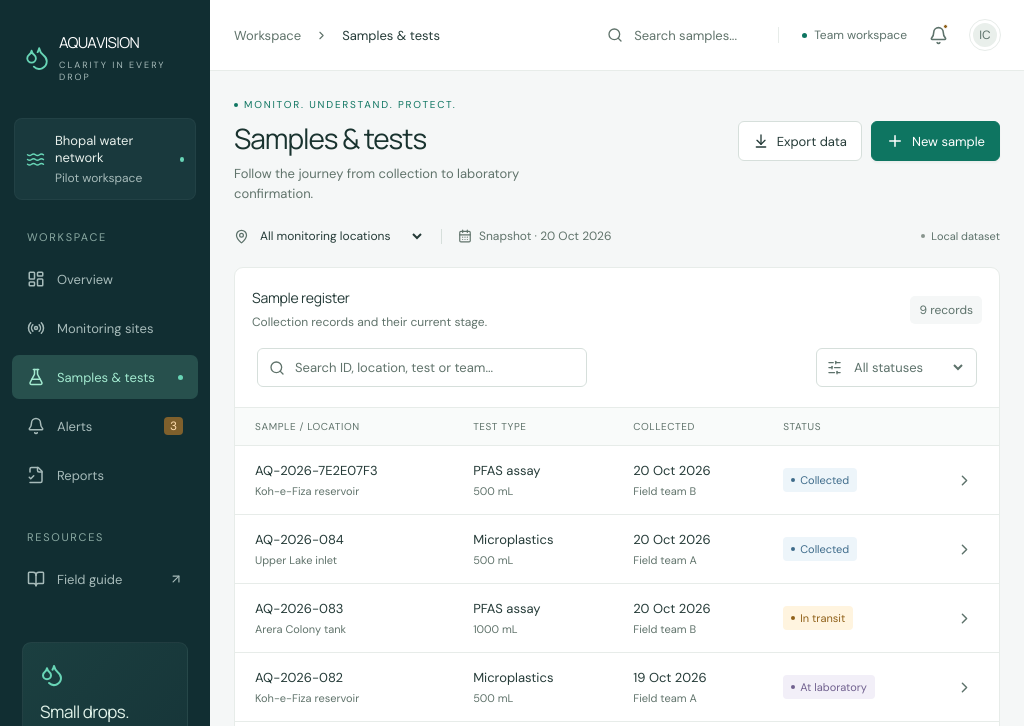
it: frontend workflows without a browser or service › searches samples and distinguishes the empty state
Type "084" into the field labelled "Search samples" at [697, 35], box [632, 26, 762, 44]
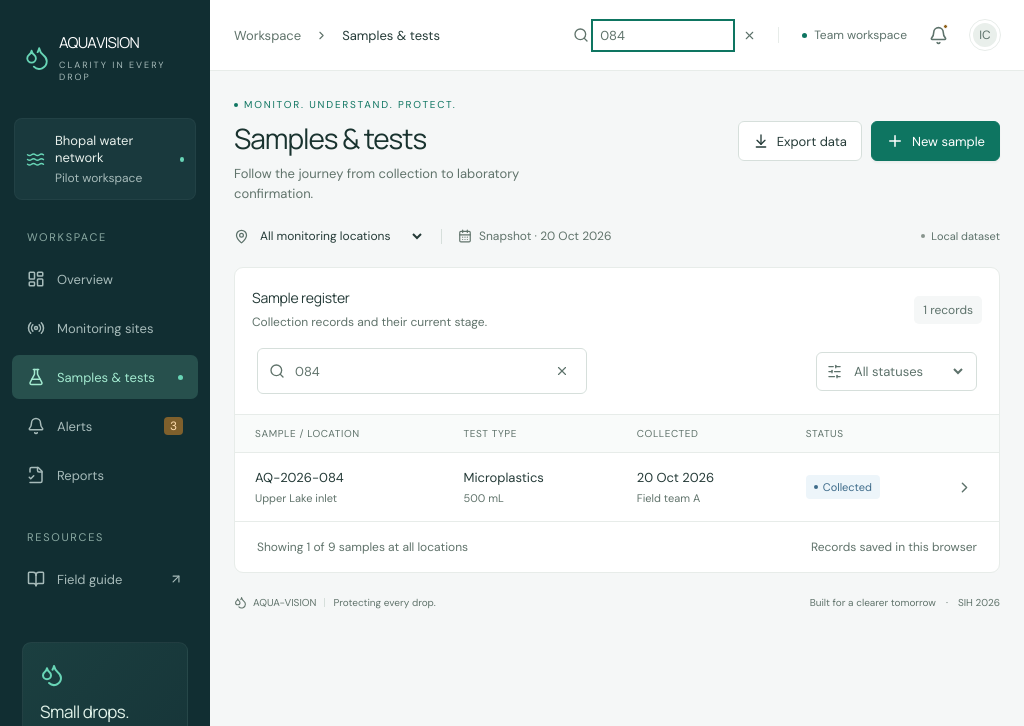
Check: the heading "Samples & tests" is shown, box [234, 119, 426, 157]
Check: the number of rows is 2, box [235, 415, 999, 453]; [235, 453, 999, 521]
Clear the field named "Search sample register" at [417, 371], box [293, 362, 541, 381]
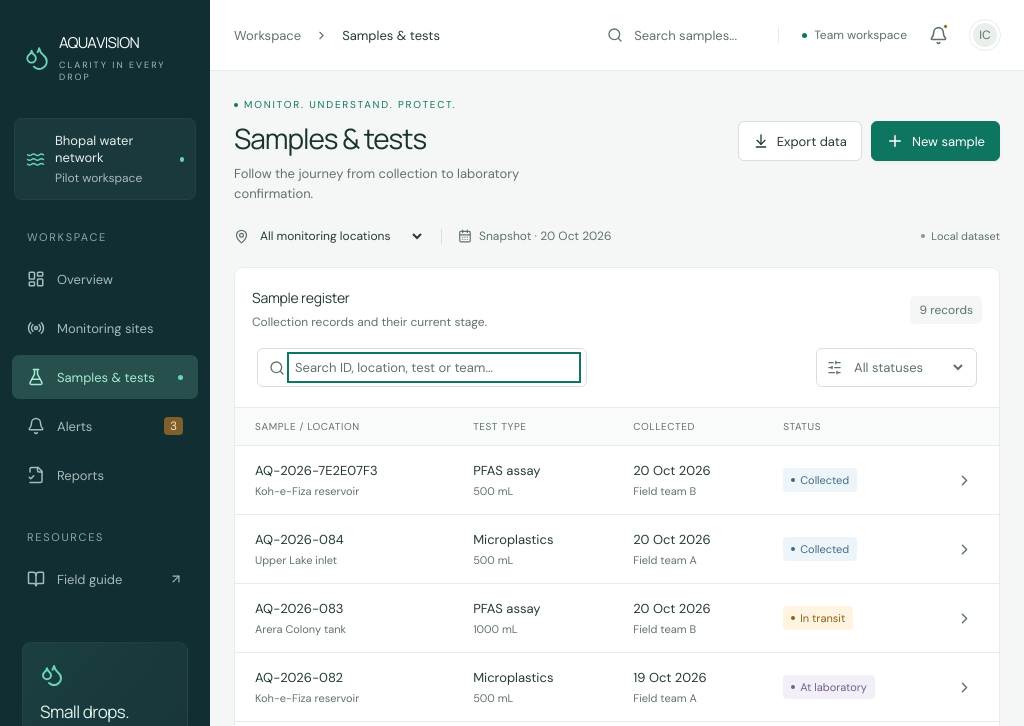
Type "nonexistent" into the field named "Search sample register" at [434, 368], box [293, 358, 575, 377]
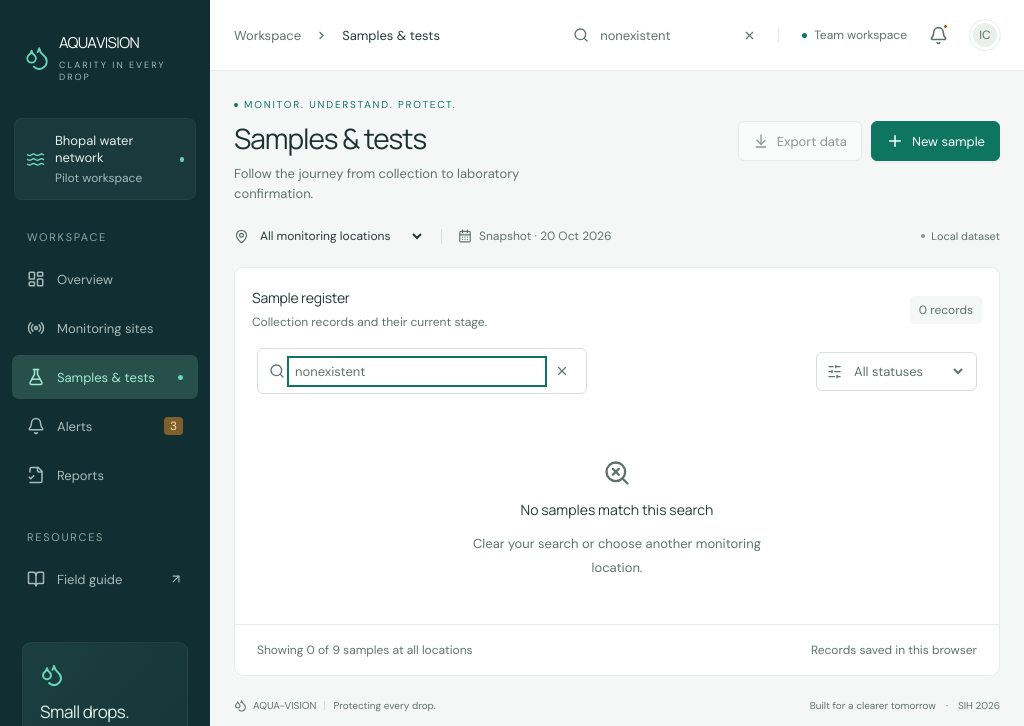
Check: the text "No samples match this search" is shown, box [520, 500, 713, 519]
